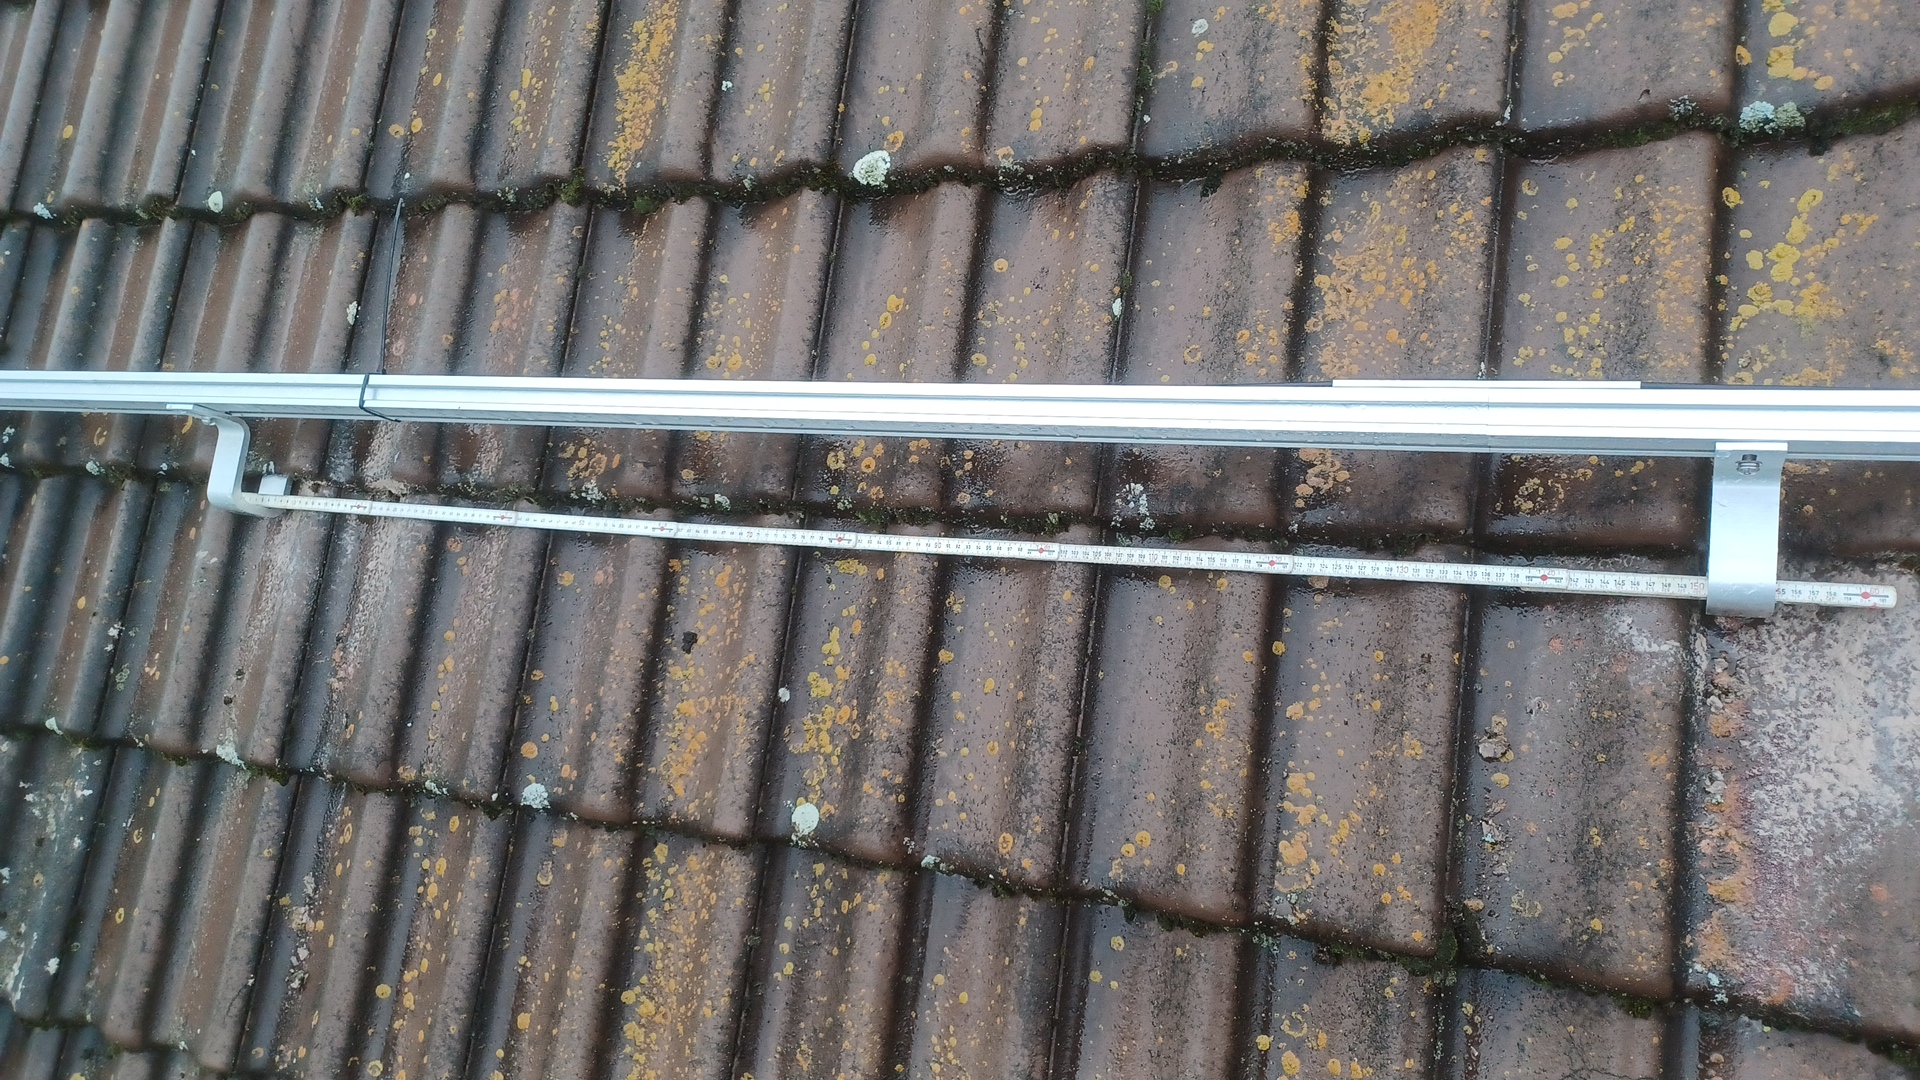hook: (166, 404, 293, 520), (1706, 442, 1787, 617)
